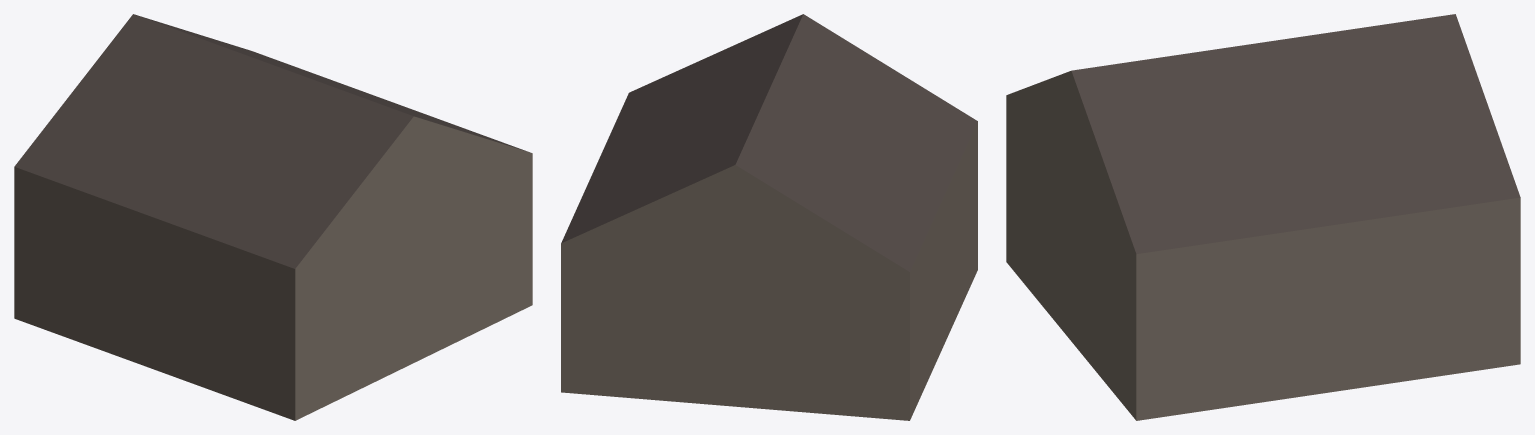
3 views of the same model, side by side, from view 1: azimuth 30°, elevation 25°; view 2: azimuth 150°, elevation 25°; view 3: azimuth 270°, elevation 25° (orthographic). The views are drawn at different scales.
Visible parts, largest first — view 1: HP-w859082480; view 2: HP-w859082480; view 3: HP-w859082480.
Part boxes in pixels (x1=…): HP-w859082480: x1=14, y1=14, x2=532, y2=420; HP-w859082480: x1=561, y1=14, x2=977, y2=420; HP-w859082480: x1=1006, y1=14, x2=1520, y2=420.
Size of the model in its own units: 24.96 by 14.62 by 25.16.
